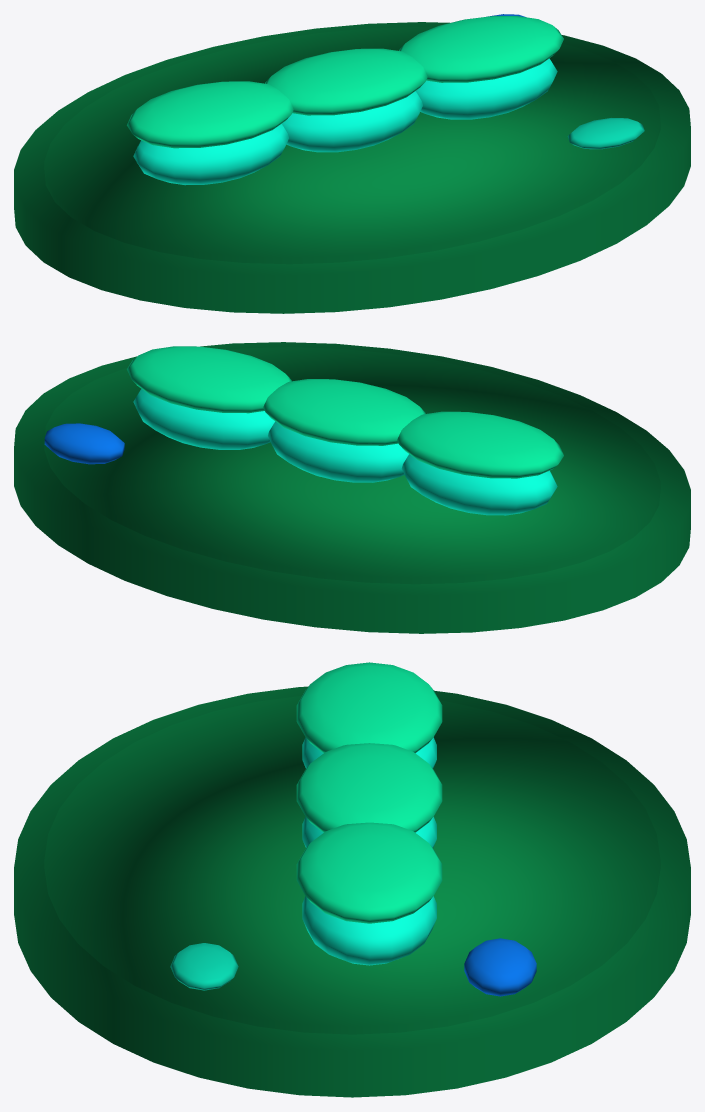
The model's file is nigiri.glb.
3 views of the same model, one above another, from view 1: azimuth 30°, elevation 25°; view 2: azimuth 150°, elevation 25°; view 3: azimuth 270°, elevation 25° (orthographic). The views are drawn at different scales.
Bounding box in the file's own units: 0.3045 × 0.055 × 0.2378.
